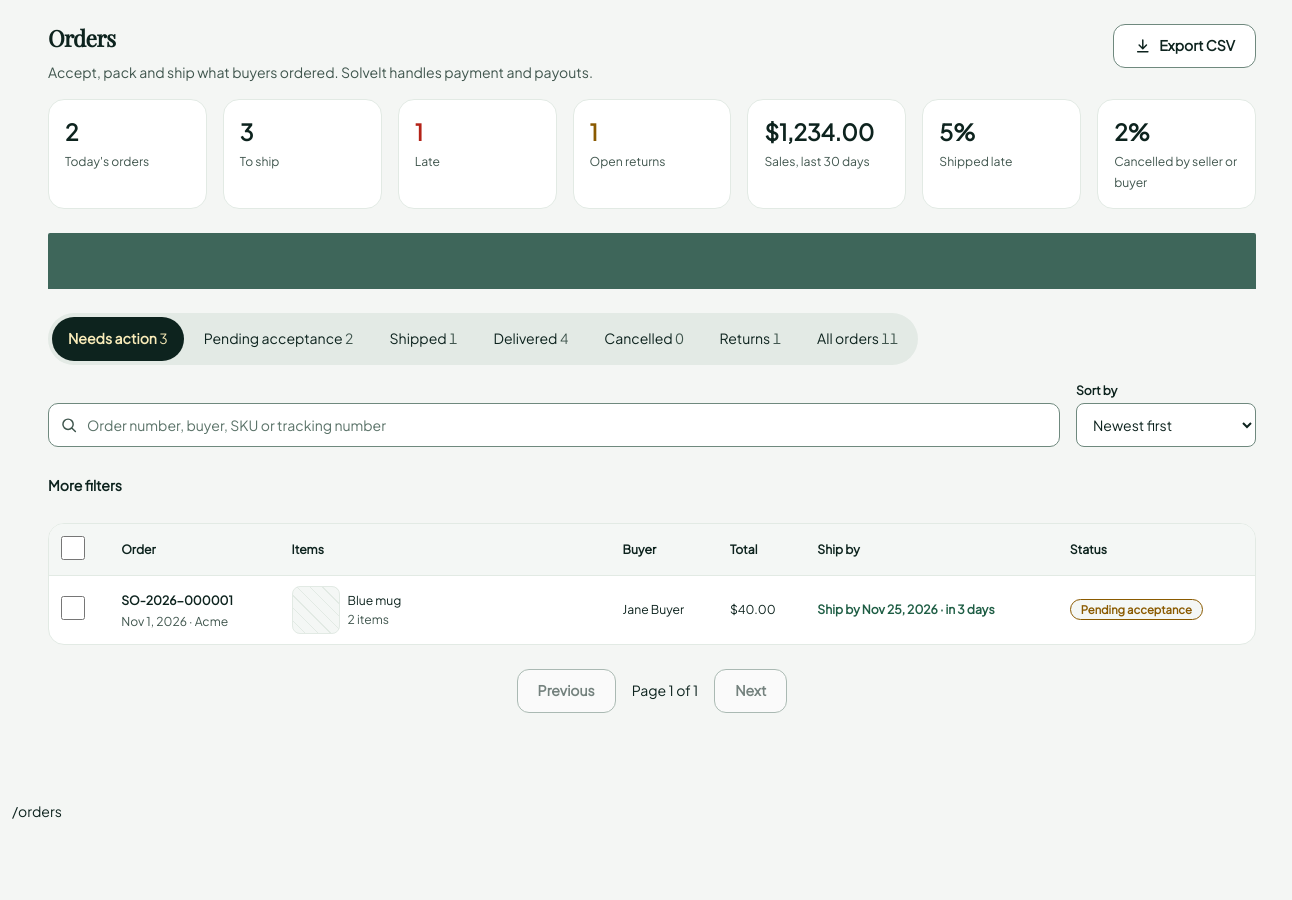
Test: orders list › a Viewer can read and print but cannot upload tracking or bulk accept
The image size is (1292, 900).
Click the checkbox named "Select order SO-2026-000001" at {"x": 73, "y": 608}, box [61, 596, 85, 620]
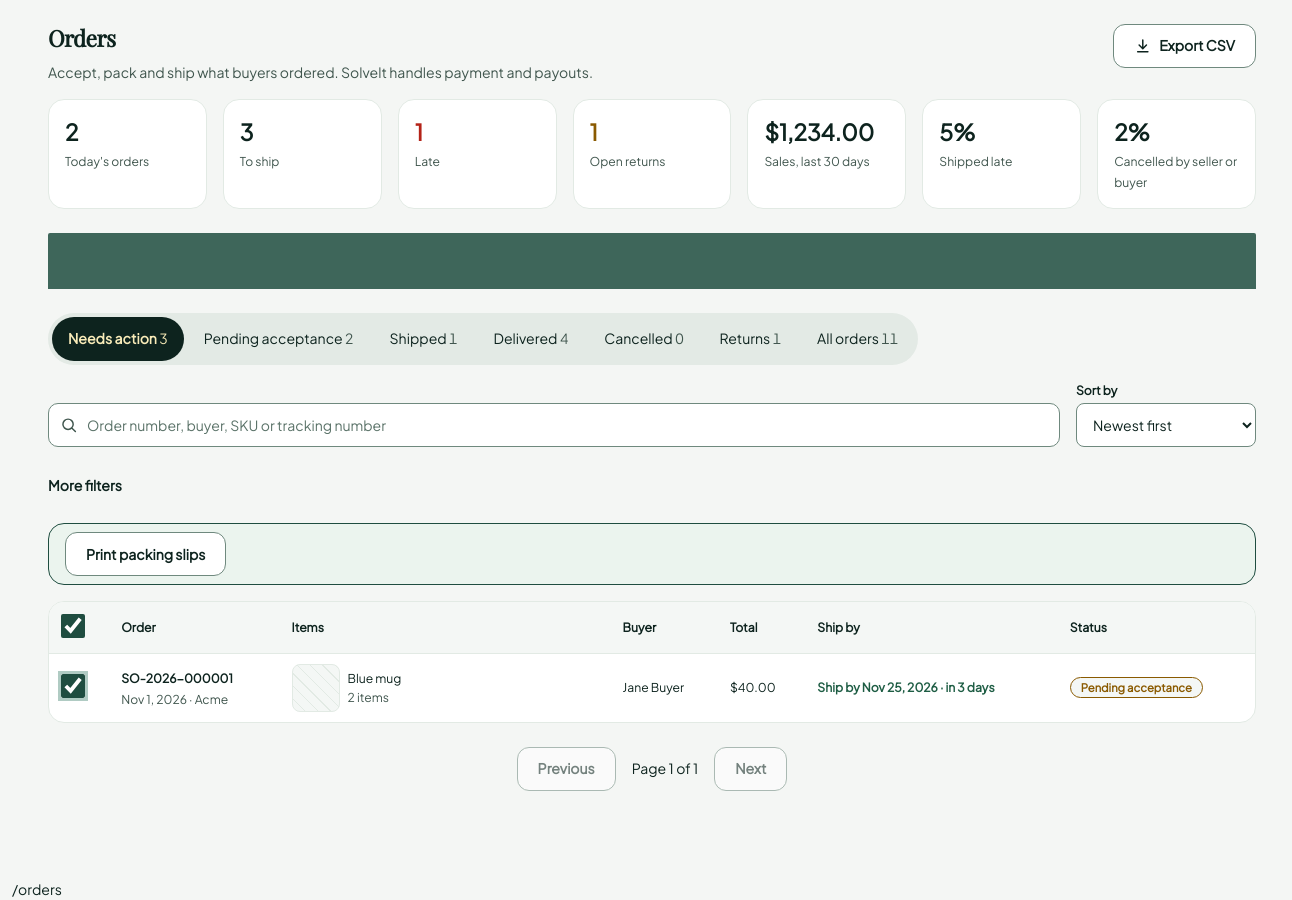
Result: the button "Print packing slips" is shown at [65, 532, 226, 576]
